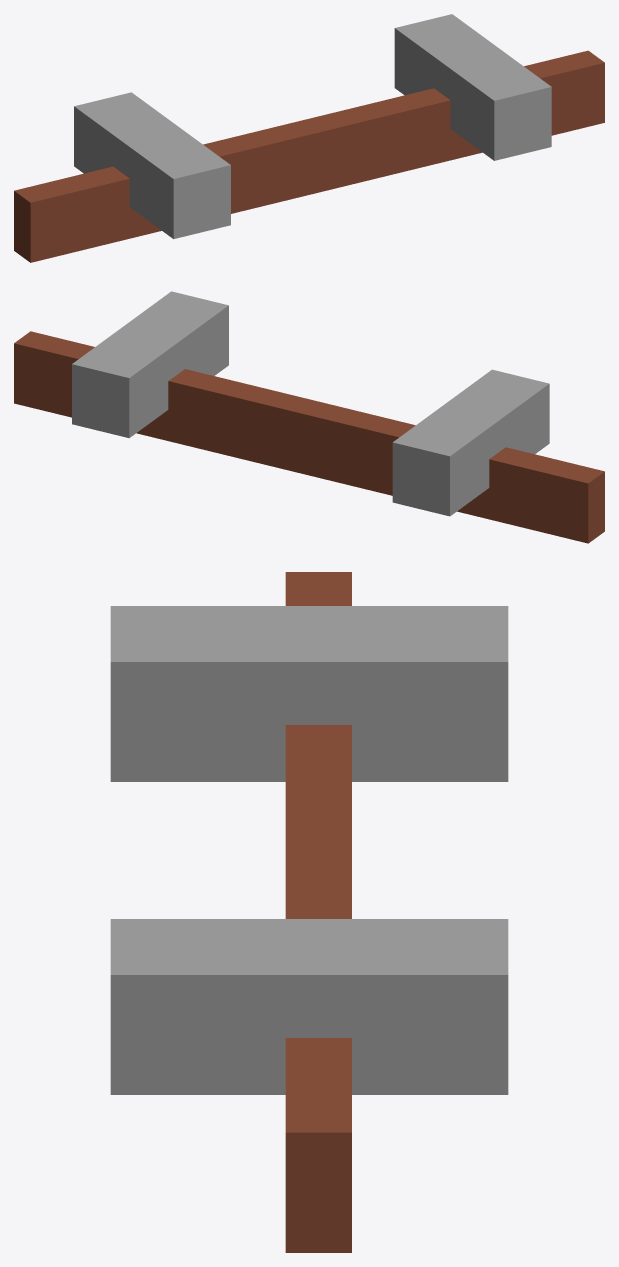
Rendered from rail.glb.
3 views of the same model, one above another, from view 1: azimuth 30°, elevation 25°; view 2: azimuth 150°, elevation 25°; view 3: azimuth 270°, elevation 25° (orthographic). The views are drawn at different scales.
Visible parts, largest first — view 1: Cube.003, Cube.002, Cube; view 2: Cube.003, Cube, Cube.002; view 3: Cube, Cube.002, Cube.003.
Boxes of the visible parts, box(x1,y1,x2,y2) form: Cube.003: box(14, 50, 604, 262); Cube.002: box(394, 14, 551, 160); Cube: box(74, 92, 230, 239); Cube.003: box(14, 331, 604, 543); Cube: box(392, 369, 549, 516); Cube.002: box(72, 291, 228, 438); Cube: box(110, 606, 508, 781); Cube.002: box(110, 919, 508, 1094); Cube.003: box(285, 572, 351, 1252).
Size of the model in its own units: 2 by 0.3049 by 0.6.
